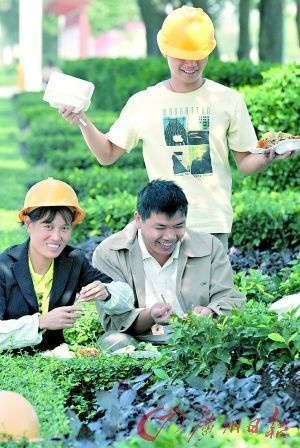none: (131, 177, 194, 257)
yellow: (17, 178, 84, 259), (154, 4, 217, 87)
